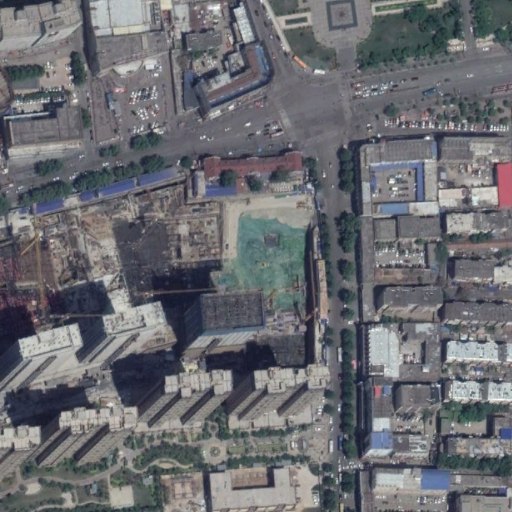cw: (226, 206, 311, 316)
